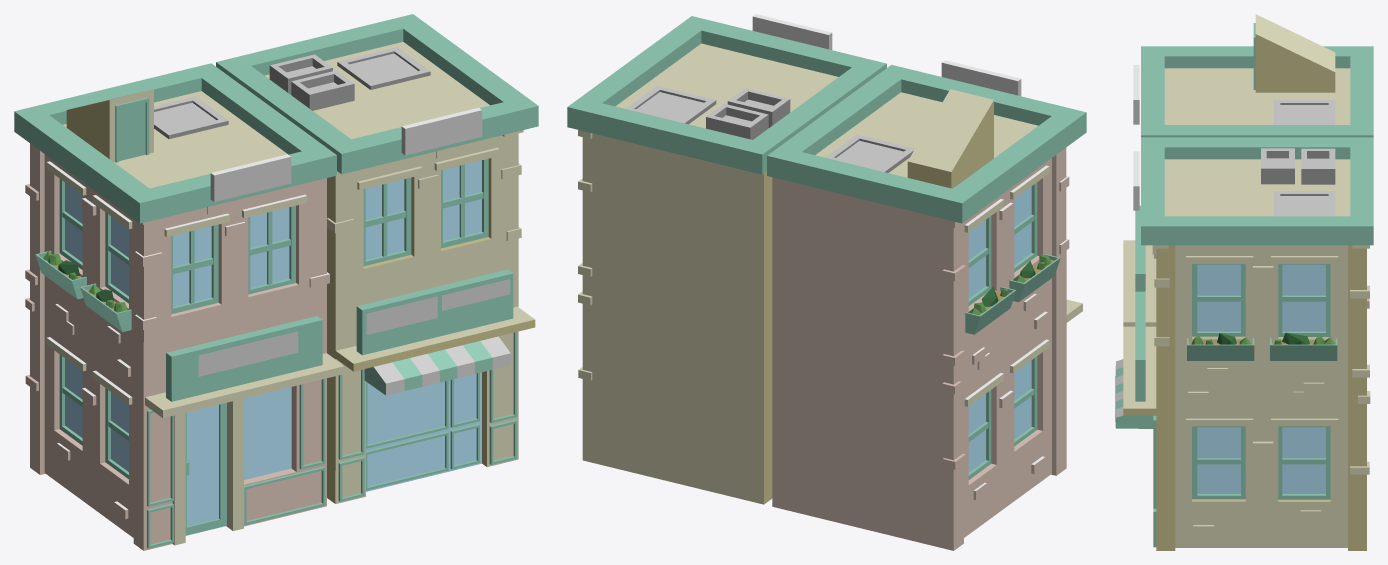
File: house_small_2_010.fbx
3 renders of one model, left to right at view 1: azimuth 30°, elevation 25°; view 2: azimuth 150°, elevation 25°; view 3: azimuth 270°, elevation 25°, orthographic. The views are drawn at different scales.
Parts seen in each view (by area): view 1: house_small_2_010; view 2: house_small_2_010; view 3: house_small_2_010.
Part boxes in pixels (<box>): house_small_2_010: <box>14,14,538,550</box>; house_small_2_010: <box>567,14,1086,550</box>; house_small_2_010: <box>1115,14,1373,550</box>.
Size of the model in its own units: 731 by 713 by 443.
